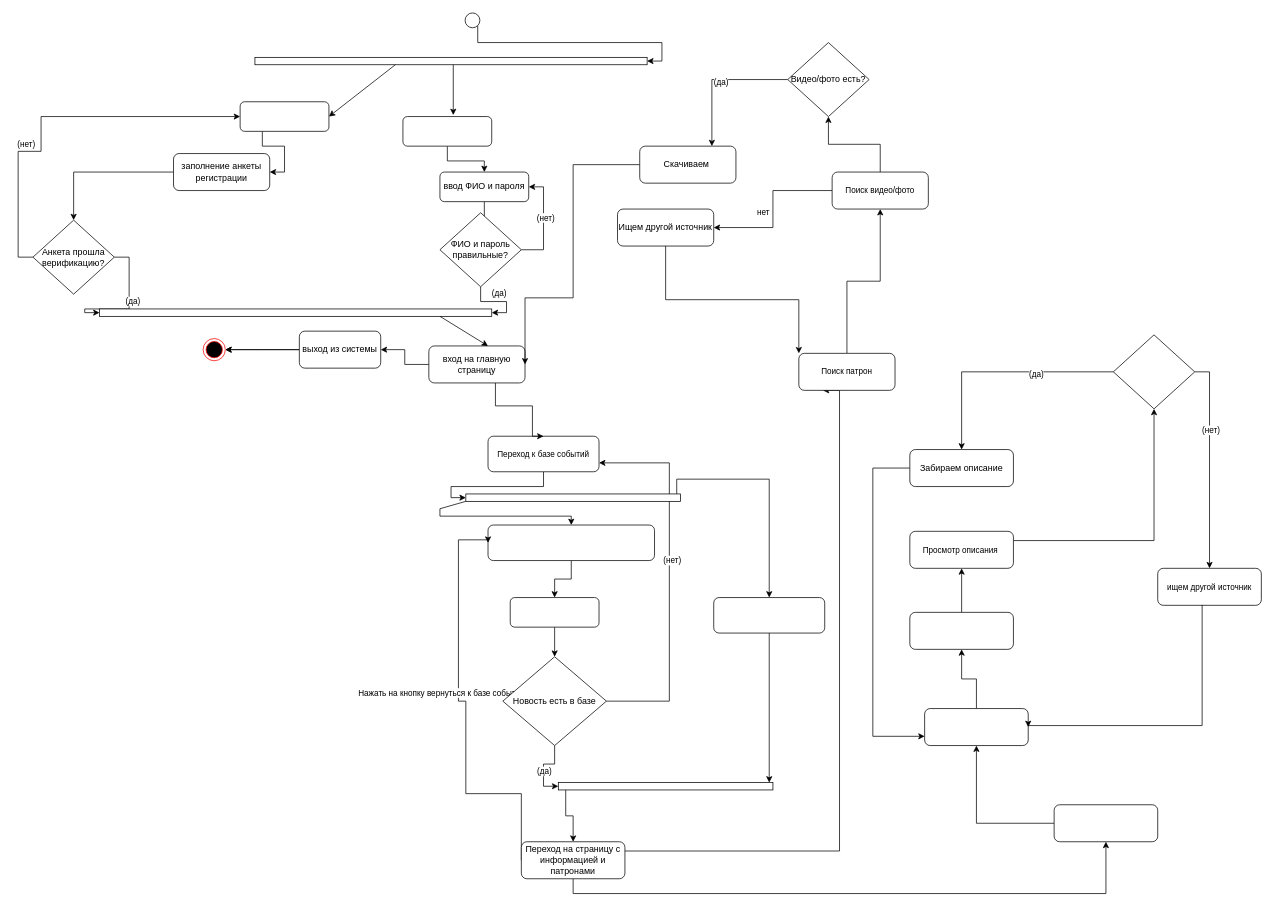
The diagram is 1274 pixels wide and 912 high, and some of its shapes have lost their labels. The shapes that lost their labels are listed below. From the top down, each one's centre as x and y in pixels, then its label:
(284,116): регистрация в системе
(447,131): вход в систему
(1154,371): Подходит ли под ТЗ?
(571,542): Нажатие на поиск по ТЗ
(554,612): Ввод ТЗ
(769,615): нажатие на новость из ленты
(961,630): Нажать на кнопку описание события
(976,727): Переход на страницу с информацией о событии
(1105,823): Нажать на кнопку информации
